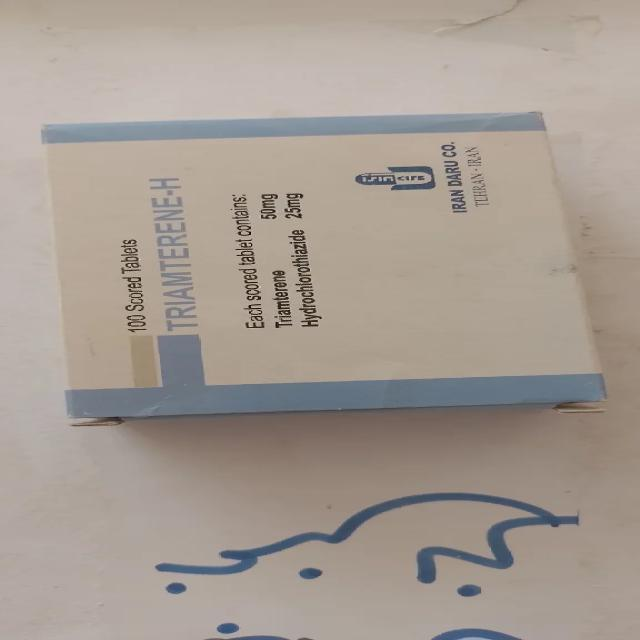drug-name: (145, 173, 203, 334)
